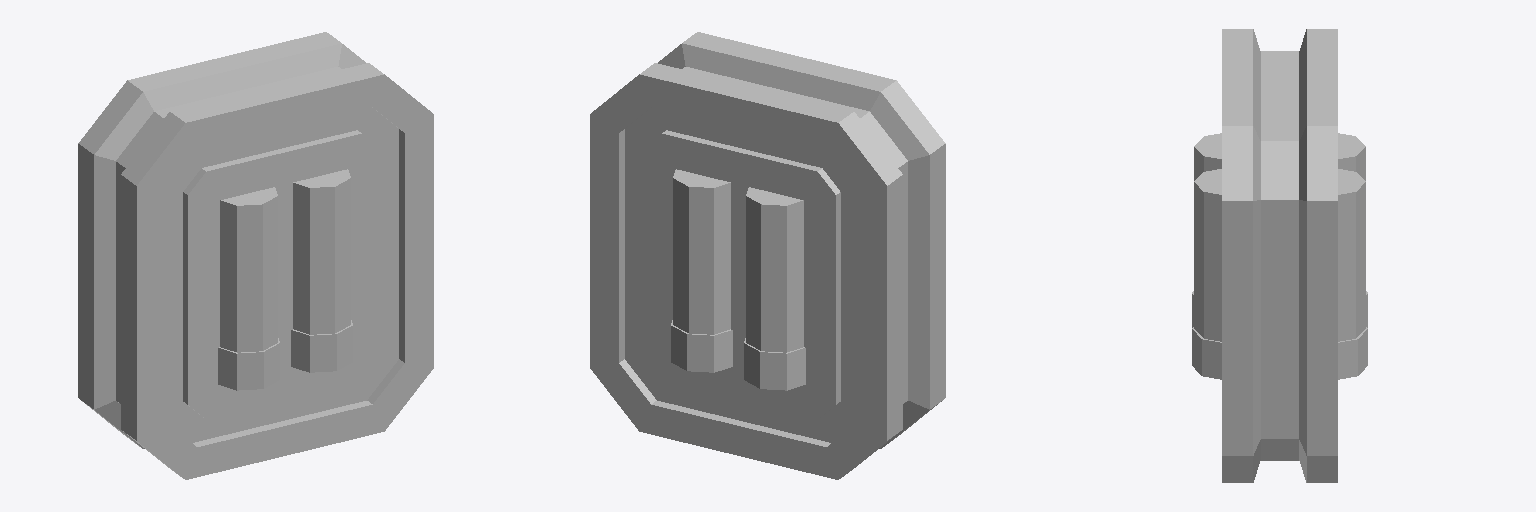
File: PowerUp_Shotgun.obj
3 renders of one model, left to right at view 1: azimuth 30°, elevation 25°; view 2: azimuth 150°, elevation 25°; view 3: azimuth 270°, elevation 25°, orthographic.
Parts seen in each view (by area): view 1: powerUp_Shotgun; view 2: powerUp_Shotgun; view 3: powerUp_Shotgun.
Boxes of the visible parts, <box> form: powerUp_Shotgun: <box>78,32,433,479</box>; powerUp_Shotgun: <box>590,32,945,479</box>; powerUp_Shotgun: <box>1192,29,1367,482</box>.
Bounding box in the file's own units: 0.364 × 0.4186 × 0.1873.